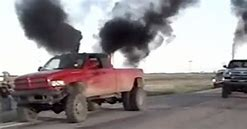smoke: (98, 1, 198, 54), (14, 1, 82, 61), (227, 1, 246, 59)
